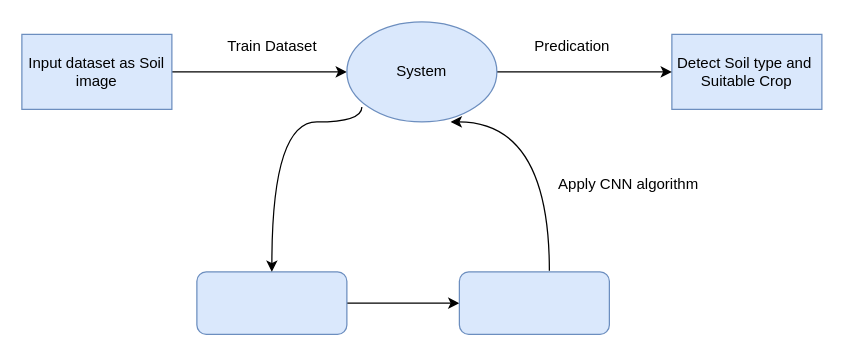
Image size: 844x356. Some labels were removed from this diagram. Each missing label, with the centre of its shape:
"Classification" goes at [533,302].
"Image Processing" goes at [271,302].
